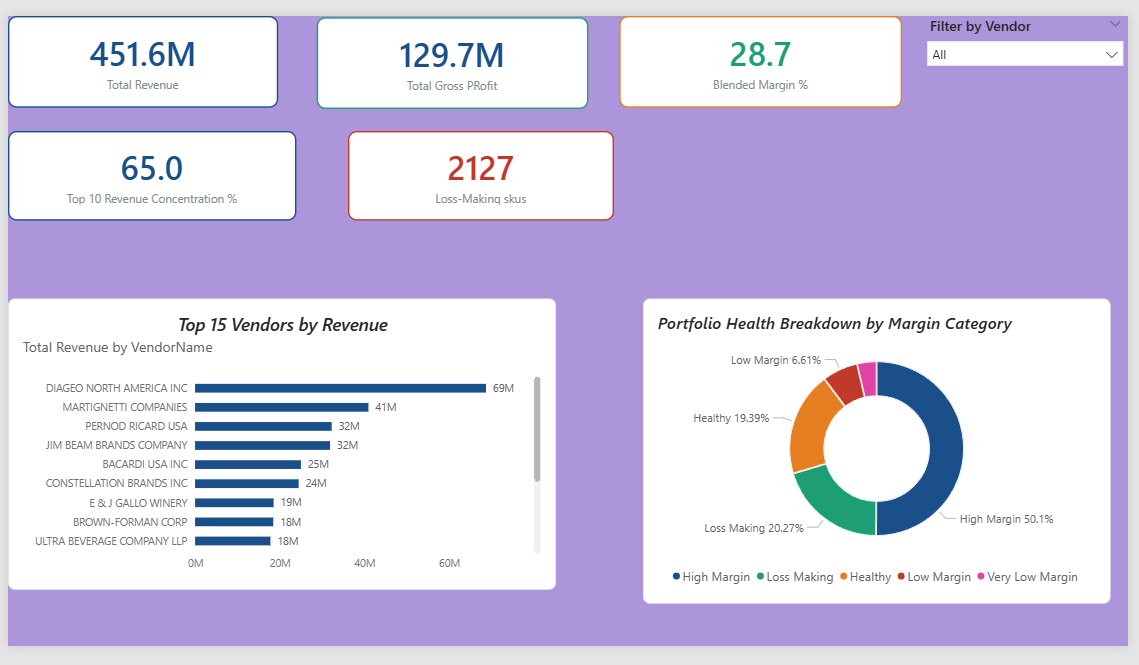

What the dashboard file says about the page in this screenshot:
{"tool":"powerbi","page":{"name":"Executive Summary","canvas":[1280,720],"ordinal":0},"visuals":[{"type":"card","fields":{"Values":["_Revenue Measures.Total Revenue"]},"box":[0,0,242.9,104.3],"z":0},{"type":"card","fields":{"Values":["_Revenue Measures.Total Gross PRofit"]},"box":[254.3,0,251.4,104.3],"z":1000},{"type":"card","fields":{"Values":["_Revenue Measures.Blended Margin %"]},"box":[515.7,0,241.4,104.3],"z":2000},{"type":"card","fields":{"Values":["_Commercial_Measures.Loss Making SKUs"]},"box":[767.1,0,244.3,102.9],"z":3000},{"type":"clusteredBarChart","title":"Top 15 Vendors by Revenue","fields":{"Category":["Vendor_Revenue.VendorName"],"Y":["_Revenue Measures.Total Revenue"]},"box":[0,402.9,592.9,317.1],"z":4000},{"type":"donutChart","title":"Portfolio Health Breakdown by  Margin Category","fields":{"Category":["Portfolio_Health.MarginCategory"],"Y":["_Revenue Measures.SKUs by Health Category"]},"box":[0,112.9,592.9,287.1],"z":5000},{"type":"card","fields":{"Values":["_Pareto_Conc_Measures.Top 10 Revenue Concentration %"]},"box":[1025.7,1.4,254.3,102.9],"z":6000},{"type":"clusteredBarChart","title":"Vendor Details Drillthrough","fields":{"Category":["Vendor_Revenue.VendorName"],"Y":["_Revenue Measures.Total Revenue"]},"box":[640,402.9,640,312.9],"z":7000},{"type":"slicer","fields":{"Values":["Vendor_Revenue.VendorName"]},"box":[1035.7,112.9,234.3,92.9],"z":8000}]}

Visuals, with their boxes on the page's 1280x720 design canvas (x1, y1, x2, y2). These are canvas units, not pixel positions in the 1139x665 screenshot, which may show the page scaled, cropped or inside an application window:
card - _Revenue Measures.Total Revenue: <region>0, 0, 243, 104</region>
card - _Revenue Measures.Total Gross PRofit: <region>254, 0, 506, 104</region>
card - _Revenue Measures.Blended Margin %: <region>516, 0, 757, 104</region>
card - _Commercial_Measures.Loss Making SKUs: <region>767, 0, 1011, 103</region>
"Top 15 Vendors by Revenue" clusteredBarChart: <region>0, 403, 593, 720</region>
"Portfolio Health Breakdown by  Margin Category" donutChart: <region>0, 113, 593, 400</region>
card - _Pareto_Conc_Measures.Top 10 Revenue Concentration %: <region>1026, 1, 1280, 104</region>
"Vendor Details Drillthrough" clusteredBarChart: <region>640, 403, 1280, 716</region>
slicer - Vendor_Revenue.VendorName: <region>1036, 113, 1270, 206</region>
